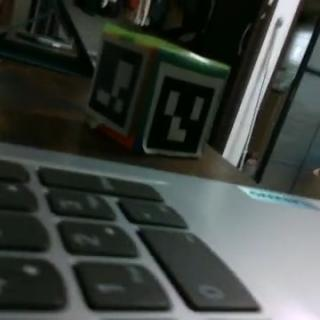armor: (142, 62, 226, 155), (86, 35, 152, 134)
robot: (80, 24, 230, 163)
